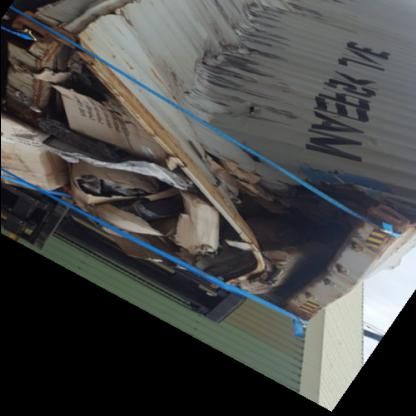Damage: (2, 0, 408, 321)
